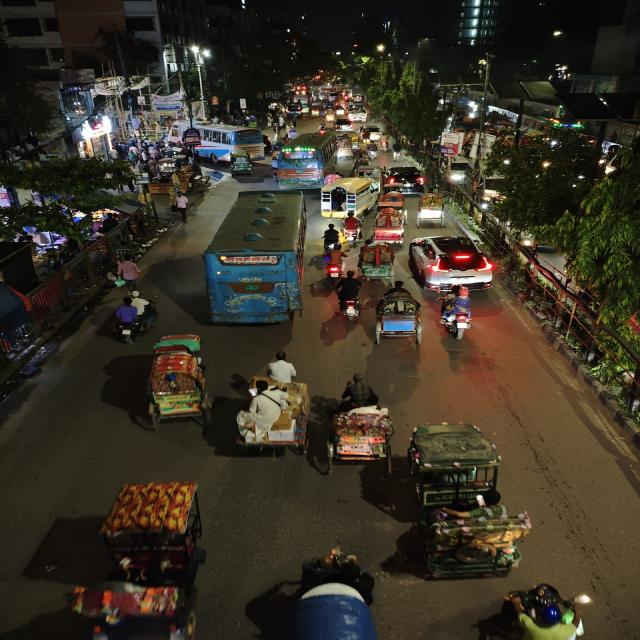bicycle: (391, 142, 402, 163)
bus: (196, 188, 310, 328), (270, 133, 339, 189), (192, 125, 270, 161), (228, 126, 272, 160)
car: (407, 232, 497, 292), (380, 164, 427, 193), (440, 157, 472, 183), (333, 118, 354, 132)
cng: (228, 152, 254, 175)
human_hauler: (321, 176, 379, 217)
motorcycle: (436, 284, 477, 341), (330, 271, 366, 323), (320, 246, 346, 280), (342, 210, 364, 243), (322, 222, 344, 252), (366, 143, 379, 161), (316, 122, 328, 134)
pedestrian: (276, 551, 391, 640), (109, 297, 140, 341), (110, 256, 144, 292), (138, 299, 160, 333), (170, 191, 192, 221)
pickup_van: (346, 105, 369, 123)
rickshaw: (86, 476, 220, 640), (410, 419, 536, 582), (136, 333, 216, 433), (229, 372, 310, 462), (319, 375, 395, 469), (369, 284, 426, 348), (357, 241, 397, 283), (371, 207, 408, 246), (413, 192, 450, 228), (337, 138, 355, 160), (309, 105, 323, 118)
